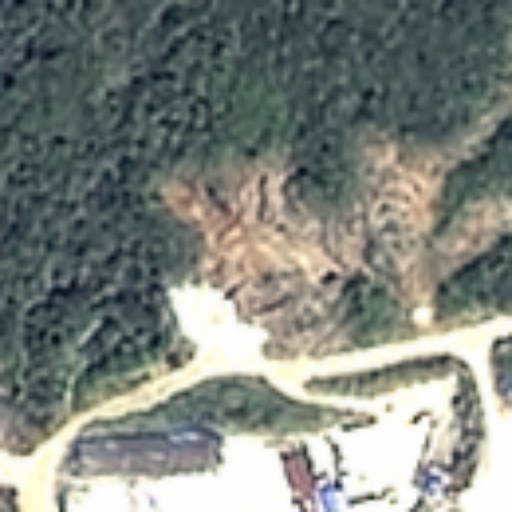landslide: (175, 158, 451, 350)
